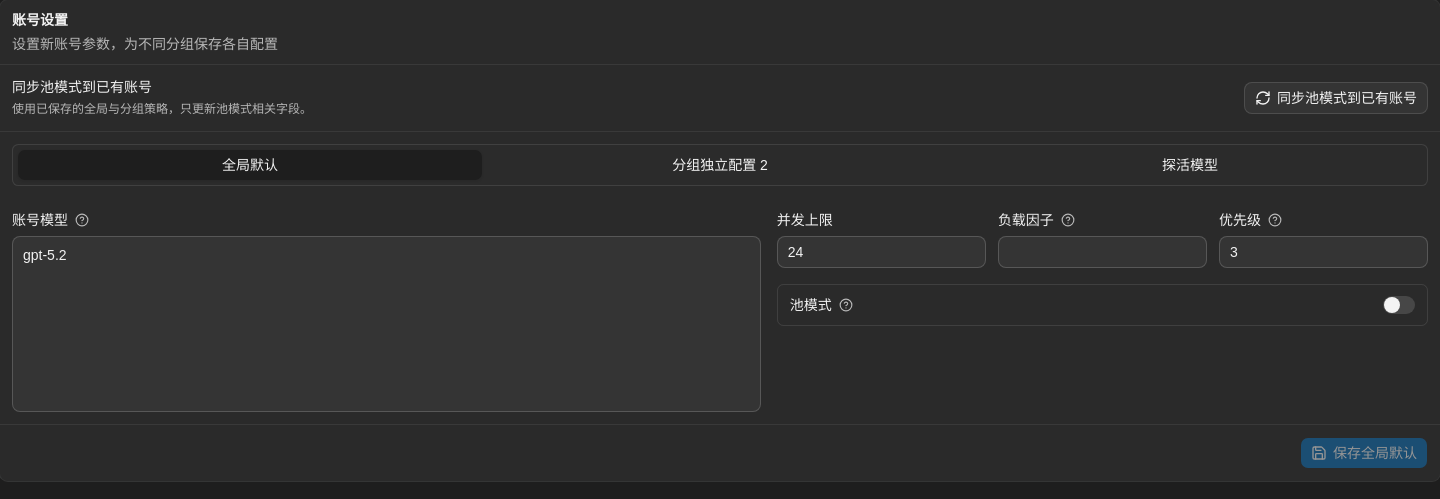
Scenario: 账号创建设置卡片 › 同时列出不同分组及各自已保存的参数
The width and height of the screenshot is (1440, 499).
What coordinates should you click on to do the following:
click the tab "分组独立配置 2"
I would click on:
 (720, 165)
Its box is [487,149,953,181].
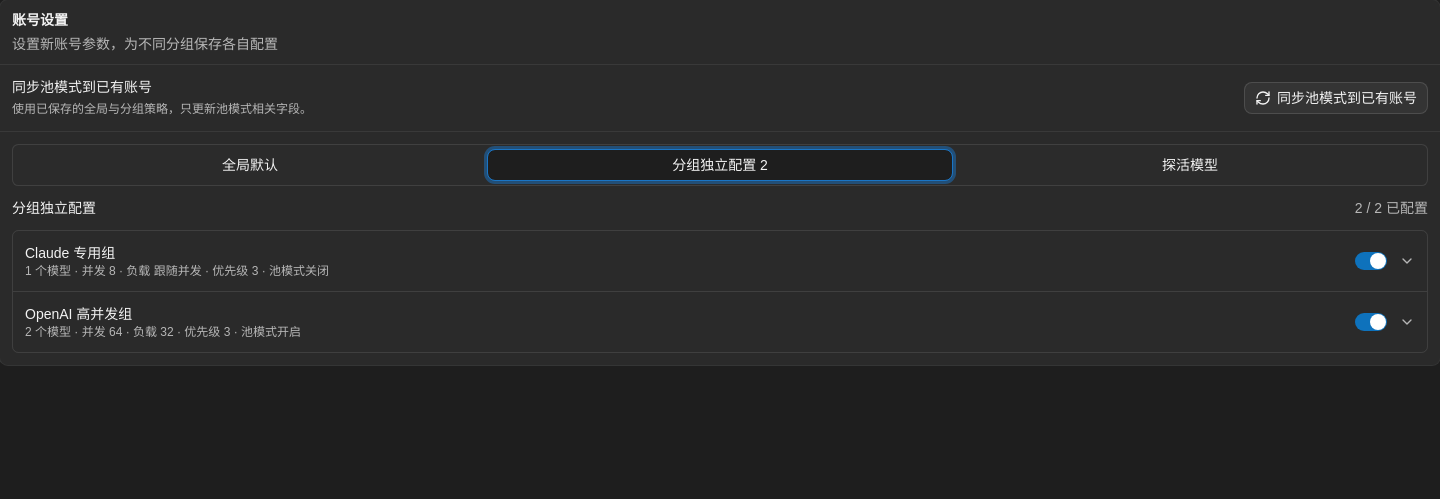
Expected: the text "1 个模型 · 并发 8 · 负载 跟随并发 · 优先级 3 · 池模式关闭" is shown, [25,264,329,278]
Expected: the text "2 个模型 · 并发 64 · 负载 32 · 优先级 3 · 池模式开启" is shown, [25,325,301,339]
Expected: the text "2 / 2 已配置" is shown, [1355,198,1428,218]
